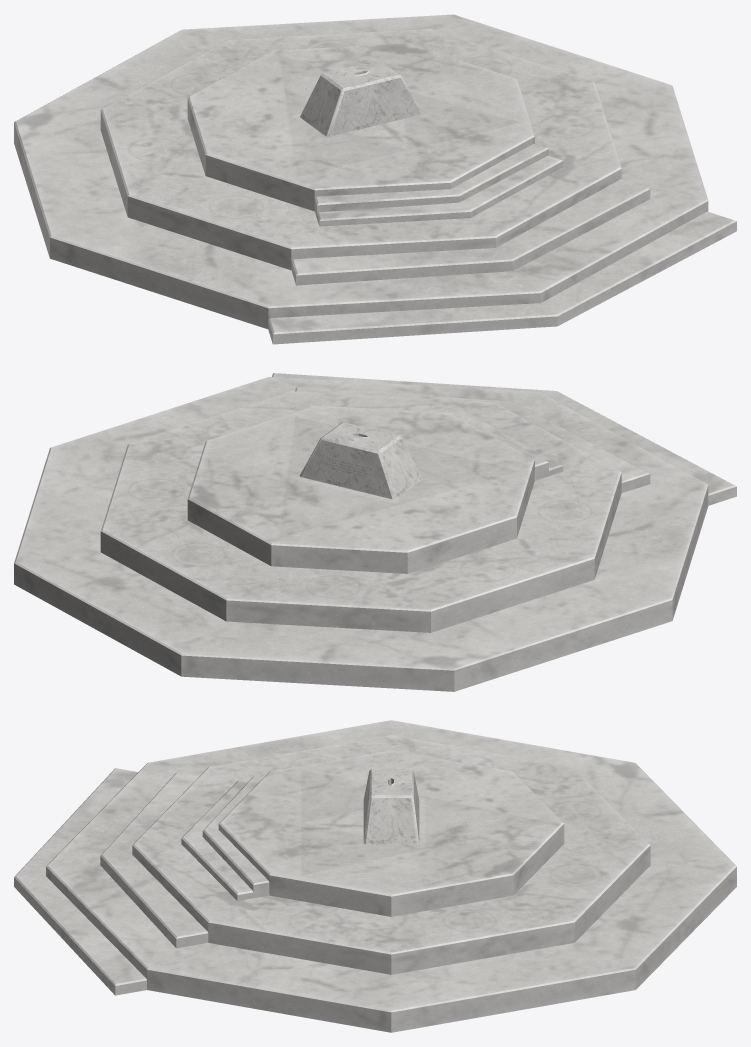
Rendered from pedestal.obj.
3 views of the same model, one above another, from view 1: azimuth 30°, elevation 25°; view 2: azimuth 150°, elevation 25°; view 3: azimuth 270°, elevation 25° (orthographic). The views are drawn at different scales.
Visible parts, largest first — view 1: PedestalTrans, SocleTrans; view 2: PedestalTrans, SocleTrans; view 3: PedestalTrans, SocleTrans.
Boxes of the visible parts, <box> form: PedestalTrans: <box>14,14,736,344</box>; SocleTrans: <box>300,59,422,136</box>; PedestalTrans: <box>14,373,736,691</box>; SocleTrans: <box>299,422,422,499</box>; PedestalTrans: <box>14,720,736,1032</box>; SocleTrans: <box>363,769,419,844</box>.
Bounding box in the file's own units: 0.3828 × 0.0645 × 0.4005.
